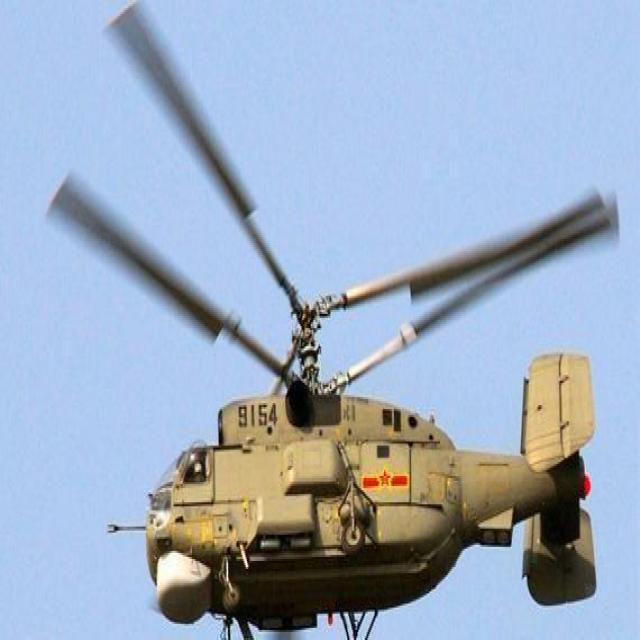MIL_HELO: (34, 3, 622, 640)
